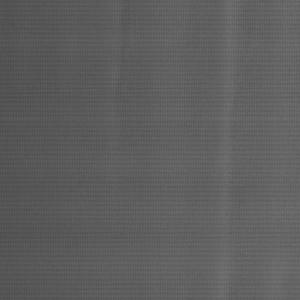Wrinkle: (215, 1, 257, 300), (106, 1, 136, 156)
